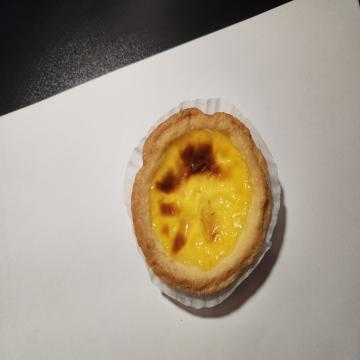EggTart: (130, 106, 274, 294)
